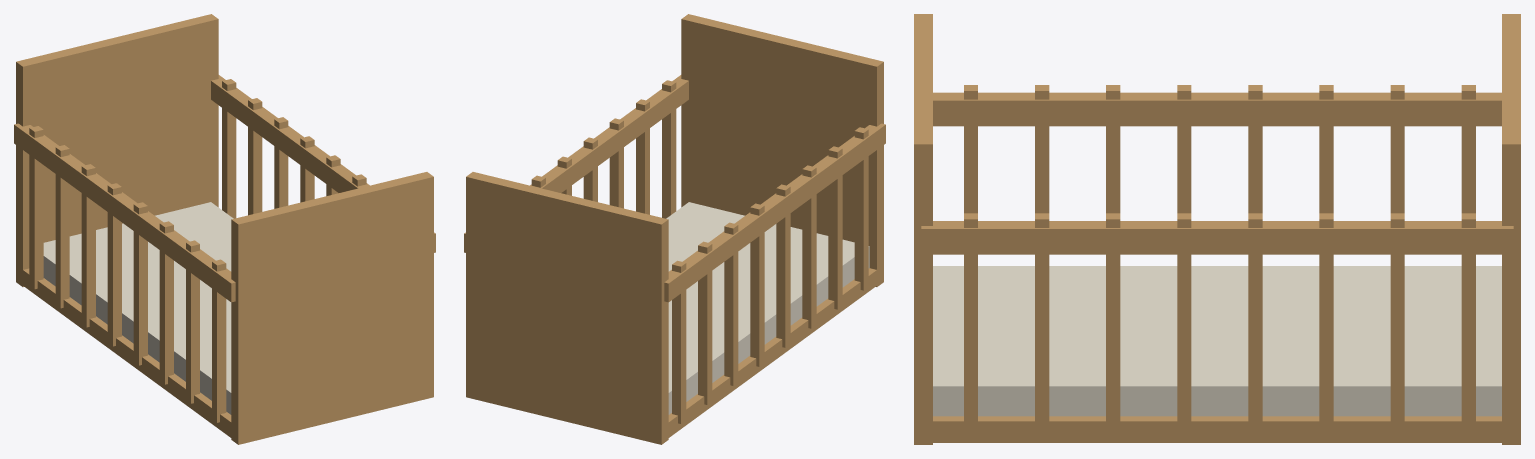
Rendered from GH_Cot_01.glb.
The picture shows the model from 3 angles, left to right: view 1: azimuth 30°, elevation 25°; view 2: azimuth 150°, elevation 25°; view 3: azimuth 270°, elevation 25°; orthographic projection. The views are drawn at different scales.
Parts seen in each view (by area): view 1: GH_Cot_01; view 2: GH_Cot_01; view 3: GH_Cot_01.
Boxes of the visible parts, x1,y1,x2,y2 form: GH_Cot_01: [14, 14, 435, 444]; GH_Cot_01: [464, 14, 885, 444]; GH_Cot_01: [914, 14, 1520, 444].
Size of the model in its own units: 0.68 by 0.7 by 1.28.
Materials: 1 (1 with a texture image).
